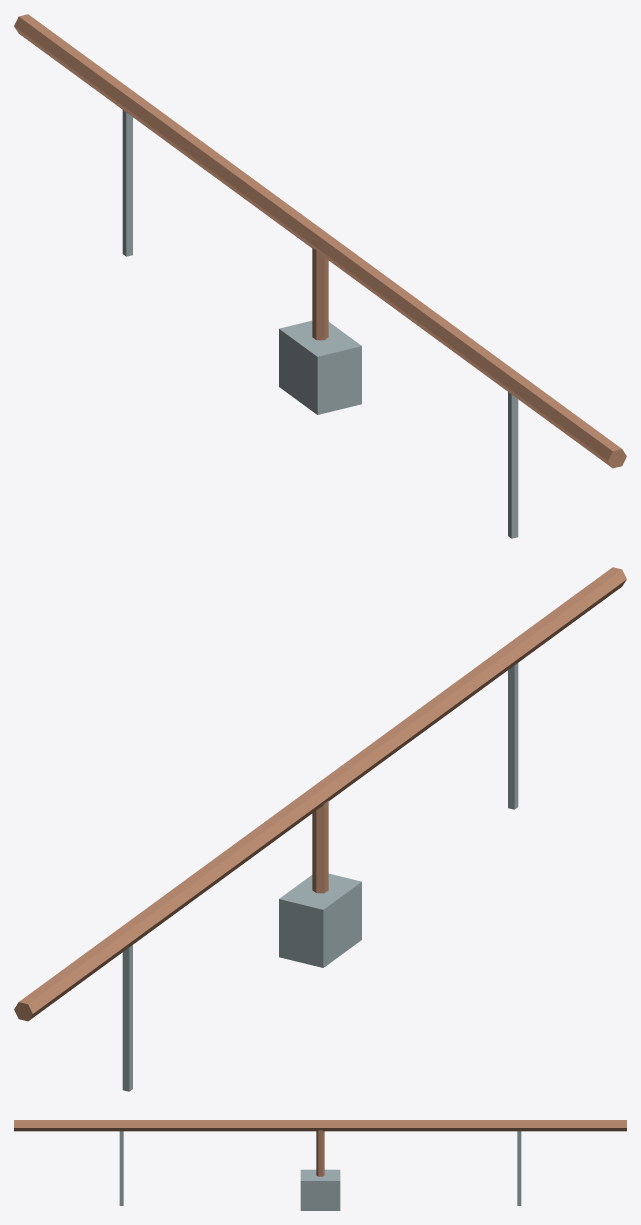
3 renders of one model, top to bottom at view 1: azimuth 30°, elevation 25°; view 2: azimuth 150°, elevation 25°; view 3: azimuth 270°, elevation 25°, orthographic. The views are drawn at different scales.
Bounding box in the file's own units: 1.6 × 5.59 × 37.
